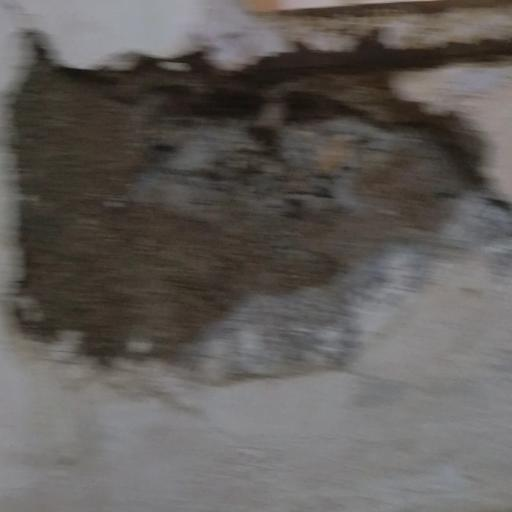spalling: (7, 17, 508, 409)
